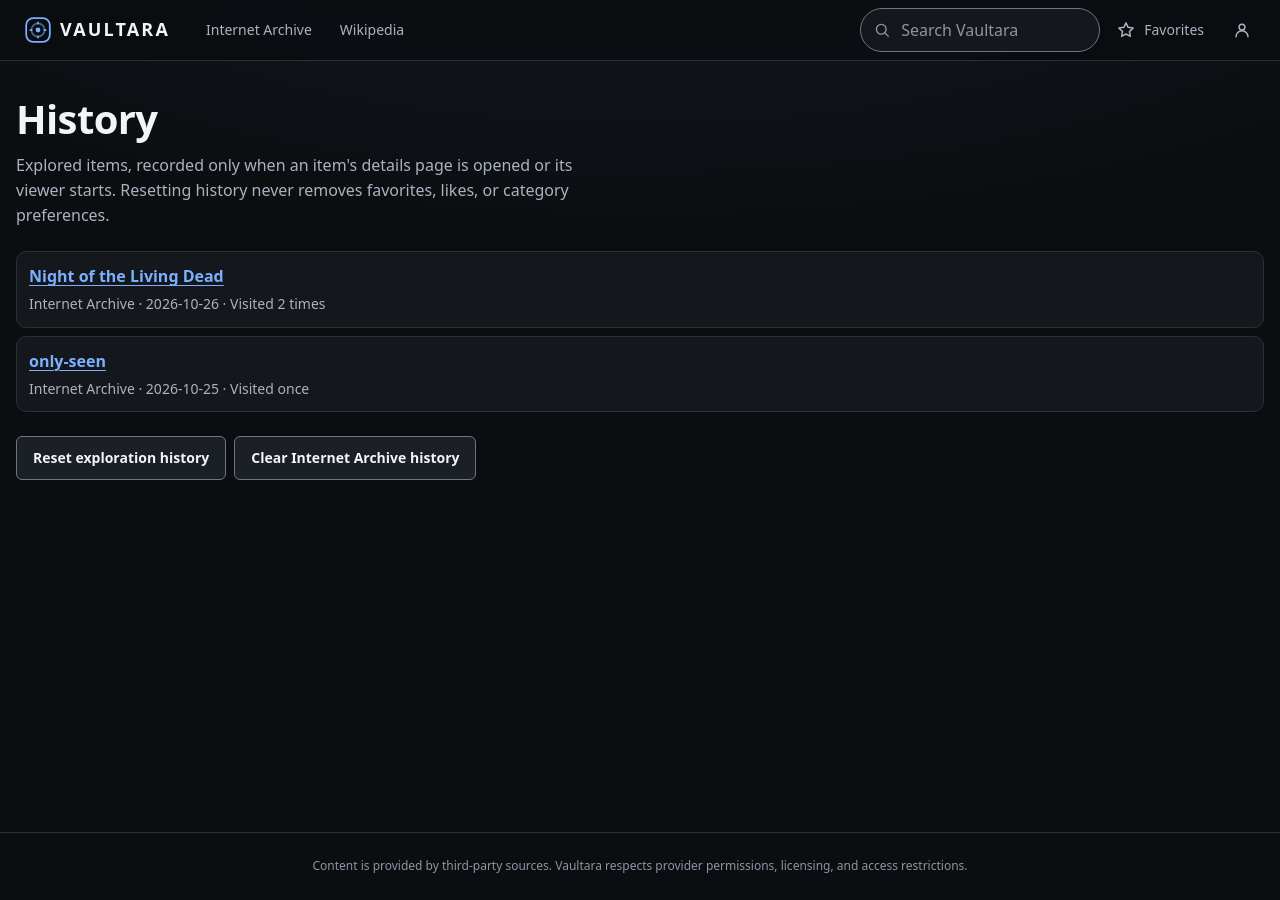
Scenario: history and privacy › lists explored items and reset keeps a favorite
Expected: the link "only-seen" is shown, [29,350,106,372]
Click the button "Reset exploration history" at (121, 458), box [16,436,226,480]
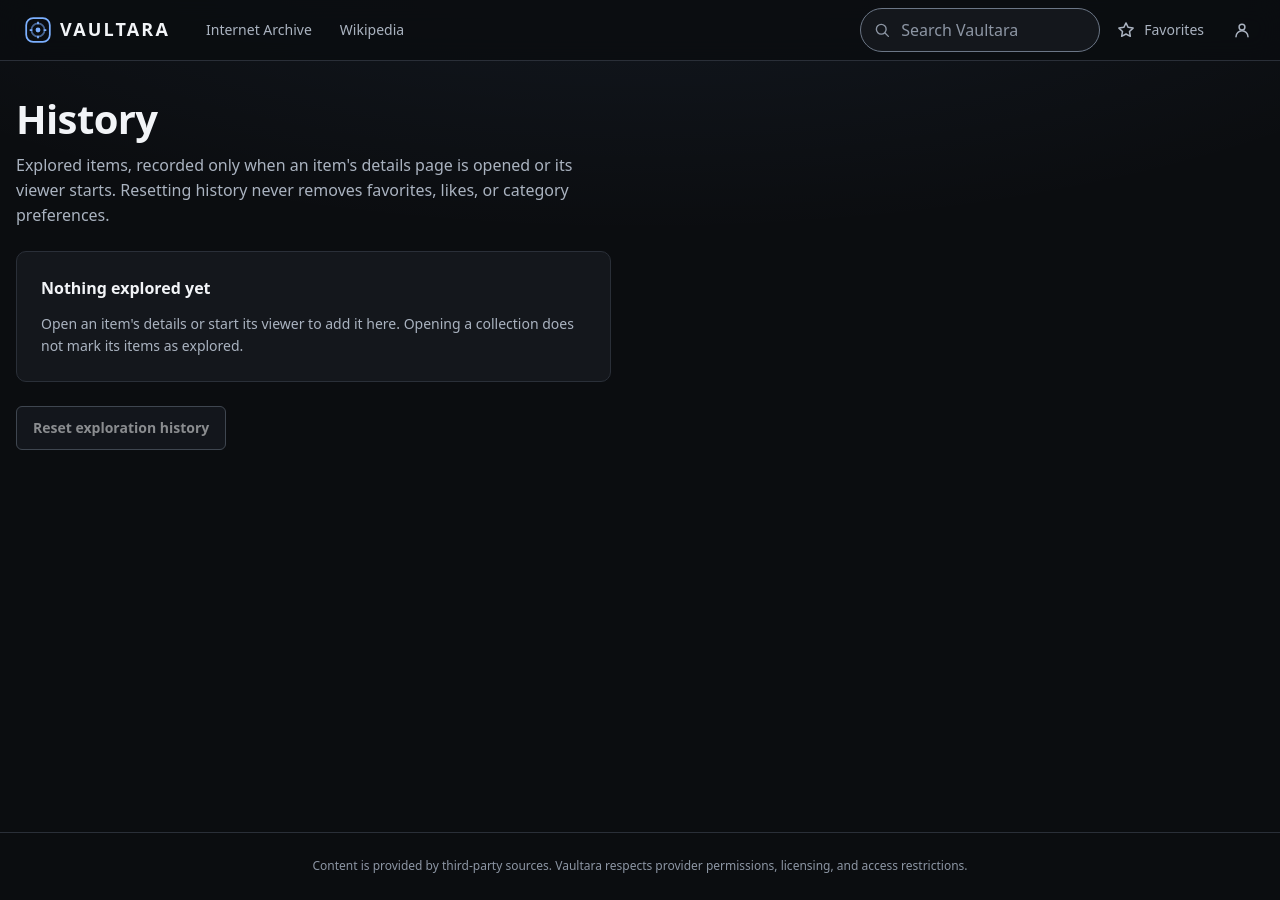
Now the link "Night of the Living Dead" is gone
Now the link "only-seen" is gone
